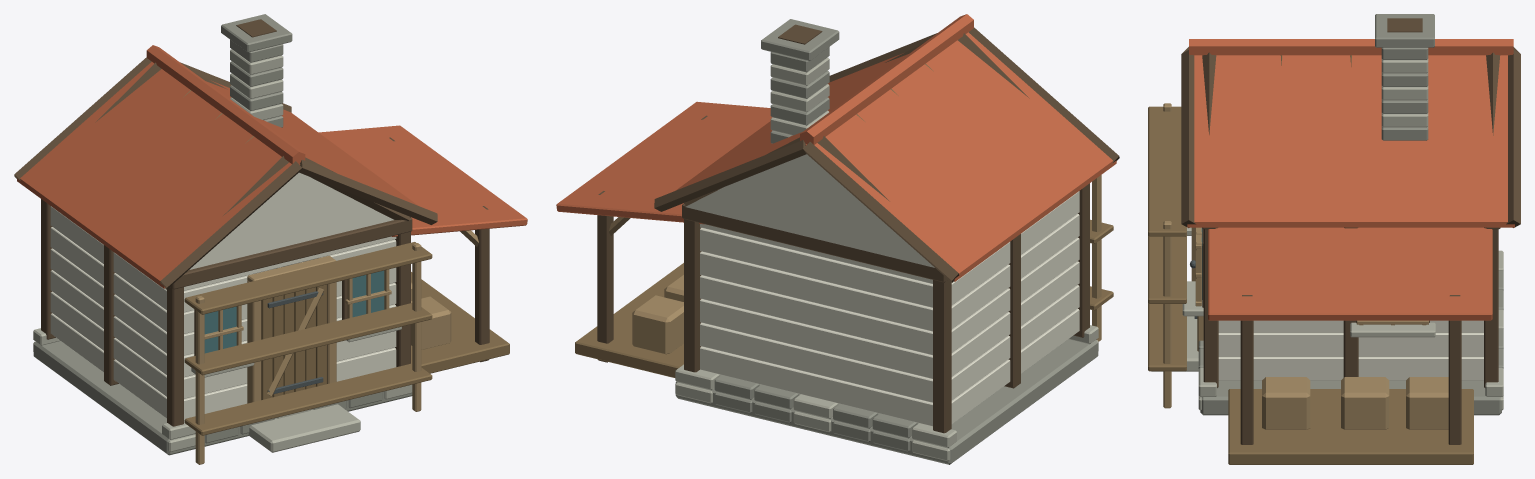
File: cottage.glb
The picture shows the model from 3 angles, left to right: view 1: azimuth 30°, elevation 25°; view 2: azimuth 150°, elevation 25°; view 3: azimuth 270°, elevation 25°; orthographic projection. The views are drawn at different scales.
Parts seen in each view (by area): view 1: TimberFrame_mesh, Scaffold_mesh, StorageCanopy_mesh, RidgeAndFascia_mesh, RoofCourse.004_mesh, Foundation_mesh, RoofCourse.005_mesh, RoofCourse.002_mesh, Chimney_mesh, RoofCourse.003_mesh, RoofCourse.001_mesh, DoorLeaf_mesh (+11 smaller); view 2: TimberFrame_mesh, StorageCanopy_mesh, Foundation_mesh, RidgeAndFascia_mesh, RoofCourse.004_mesh, WallCourse.001_mesh, WallCourse.002_mesh, WallCourse.003_mesh, WallCourse.004_mesh, WallCourse_mesh, WallCourse.005_mesh, RoofCourse.002_mesh (+7 smaller); view 3: StorageCanopy_mesh, RoofCourse.004_mesh, Scaffold_mesh, RoofCourse.005_mesh, RidgeAndFascia_mesh, RoofCourse.003_mesh, RoofCourse.002_mesh, RoofCourse.001_mesh, RoofCourse_mesh, Chimney_mesh, WallCourse.001_mesh, TimberFrame_mesh (+5 smaller).
Part boxes in pixels (box(x1,y1,x2,y2)): TimberFrame_mesh: box(41, 62, 412, 426); Scaffold_mesh: box(184, 242, 432, 464); StorageCanopy_mesh: box(318, 125, 527, 373); RidgeAndFascia_mesh: box(14, 45, 437, 289); RoofCourse.004_mesh: box(39, 113, 396, 263); Foundation_mesh: box(33, 328, 412, 455); RoofCourse.005_mesh: box(17, 109, 417, 288); RoofCourse.002_mesh: box(84, 80, 353, 223); Chimney_mesh: box(221, 14, 292, 127); RoofCourse.003_mesh: box(67, 87, 370, 243); RoofCourse.001_mesh: box(107, 81, 327, 203); DoorLeaf_mesh: box(261, 284, 326, 399); TimberFrame_mesh: box(682, 33, 1089, 433); StorageCanopy_mesh: box(556, 101, 772, 377); Foundation_mesh: box(675, 325, 1098, 464); RidgeAndFascia_mesh: box(654, 14, 1119, 282); RoofCourse.004_mesh: box(697, 67, 1091, 254); WallCourse.001_mesh: box(700, 285, 1079, 402); WallCourse.002_mesh: box(700, 261, 1079, 378); WallCourse.003_mesh: box(700, 237, 1079, 355); WallCourse.004_mesh: box(700, 214, 1079, 331); WallCourse_mesh: box(700, 308, 1079, 426); WallCourse.005_mesh: box(700, 191, 1079, 307); RoofCourse.002_mesh: box(746, 53, 1041, 210); StorageCanopy_mesh: box(1208, 227, 1492, 464); RoofCourse.004_mesh: box(1194, 162, 1507, 197); Scaffold_mesh: box(1148, 103, 1186, 408); RoofCourse.005_mesh: box(1187, 198, 1514, 227); RidgeAndFascia_mesh: box(1181, 39, 1520, 227); RoofCourse.003_mesh: box(1194, 141, 1507, 169); RoofCourse.002_mesh: box(1194, 107, 1507, 141); RoofCourse.001_mesh: box(1194, 84, 1507, 112); RoofCourse_mesh: box(1194, 55, 1507, 84); Chimney_mesh: box(1375, 14, 1434, 140); WallCourse.001_mesh: box(1218, 332, 1483, 356); TimberFrame_mesh: box(1202, 52, 1500, 387).
Size of the model in its own units: 5.21 by 4.2 by 4.02.
